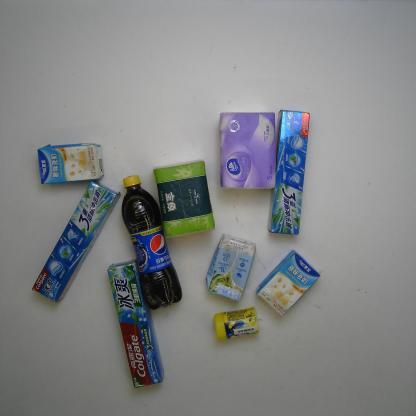Drink: (121, 174, 182, 310)
Gum: (215, 306, 261, 339)
Milk: (255, 250, 320, 322), (204, 233, 258, 300), (38, 143, 104, 183)
Personal Hygiene: (30, 181, 121, 302), (107, 260, 164, 388), (266, 108, 312, 236)
Tissue: (153, 158, 216, 239), (216, 110, 279, 190)
